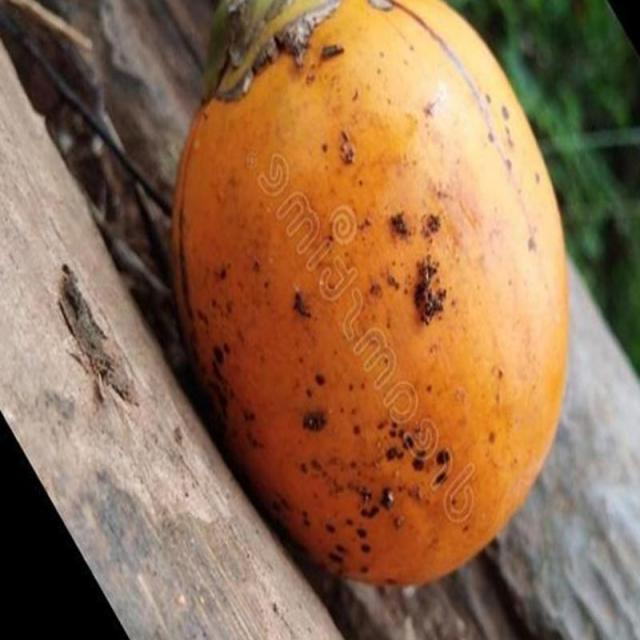good: (168, 0, 574, 592)
